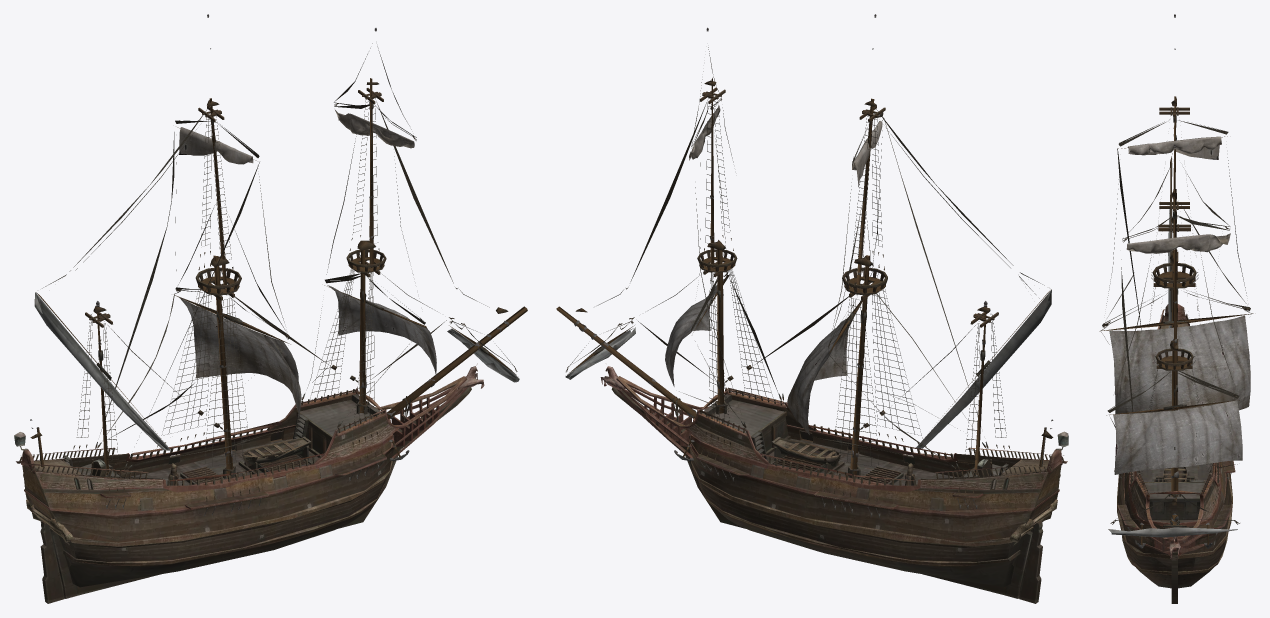
Rendered from dutch_ship_medium.glb.
3 views of the same model, side by side, from view 1: azimuth 30°, elevation 25°; view 2: azimuth 150°, elevation 25°; view 3: azimuth 270°, elevation 25° (orthographic). The views are drawn at different scales.
Visible parts, largest first — view 1: dutch_ship_medium_hull, dutch_ship_medium_rigging, dutch_ship_medium_sails; view 2: dutch_ship_medium_hull, dutch_ship_medium_rigging, dutch_ship_medium_sails; view 3: dutch_ship_medium_sails, dutch_ship_medium_hull, dutch_ship_medium_rigging.
Part boxes in pixels (x1,y1,x2,y2): dutch_ship_medium_hull: (14,363,484,603); dutch_ship_medium_rigging: (30,14,527,515); dutch_ship_medium_sails: (179,110,436,419); dutch_ship_medium_hull: (600,366,1068,603); dutch_ship_medium_rigging: (556,14,1053,517); dutch_ship_medium_sails: (665,105,882,434); dutch_ship_medium_sails: (1109,136,1250,474); dutch_ship_medium_hull: (1114,289,1235,603); dutch_ship_medium_rigging: (1099,14,1253,548).
Bounding box in the file's own units: 24.05 × 24.66 × 6.79.
3 materials, 3 textured.
